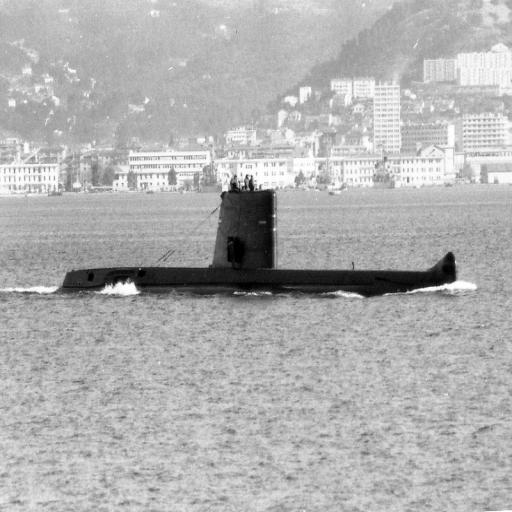submarine: (64, 174, 460, 290)
